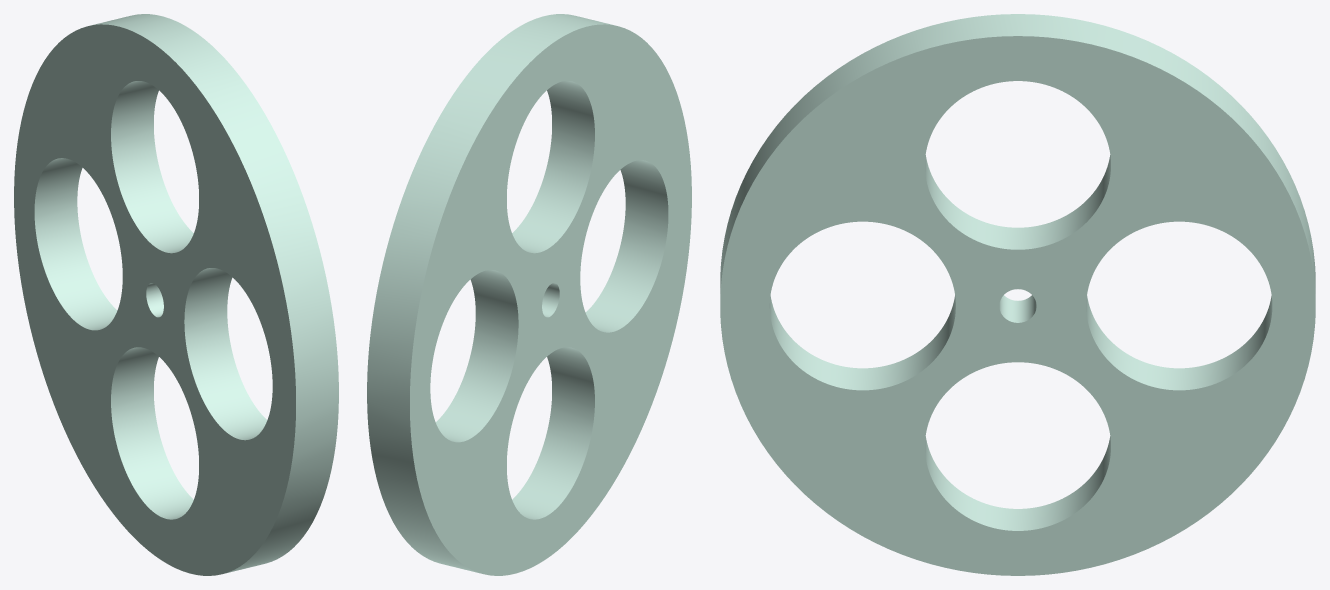
The picture shows the model from 3 angles, left to right: view 1: azimuth 30°, elevation 25°; view 2: azimuth 150°, elevation 25°; view 3: azimuth 270°, elevation 25°; orthographic projection. The views are drawn at different scales.
Parts seen in each view (by area): view 1: Renderer Node; view 2: Renderer Node; view 3: Renderer Node.
Part boxes in pixels (x1,y1,x2,y2): Renderer Node: [14, 14, 338, 575]; Renderer Node: [367, 14, 691, 575]; Renderer Node: [720, 14, 1315, 575].
Size of the model in its own units: 0.1328 by 1.52 by 1.52.
